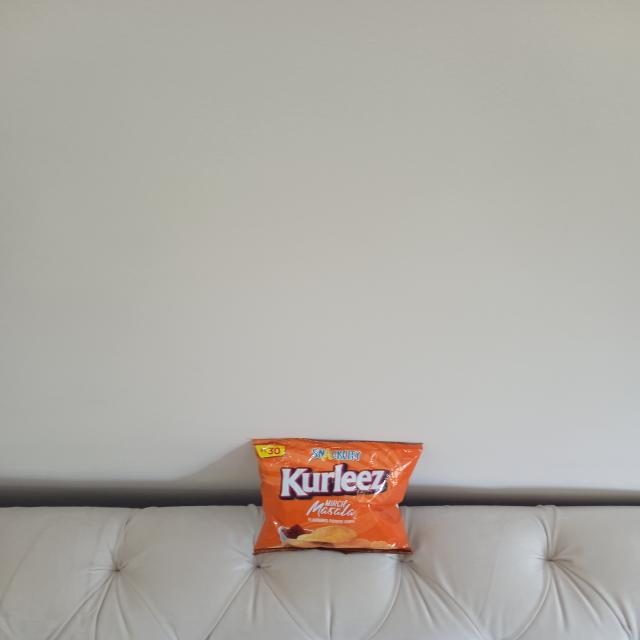Plastic: (250, 432, 420, 560)
